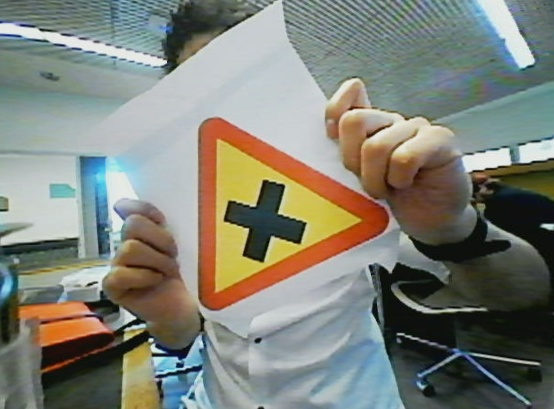junction: (194, 113, 396, 314)
